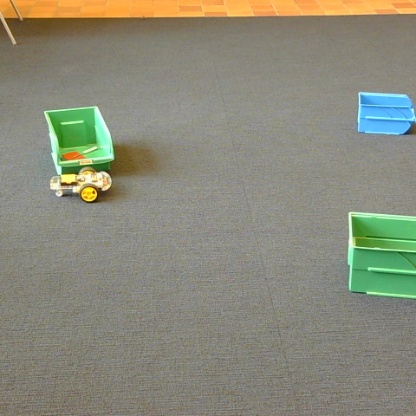robot: (50, 167, 111, 202)
